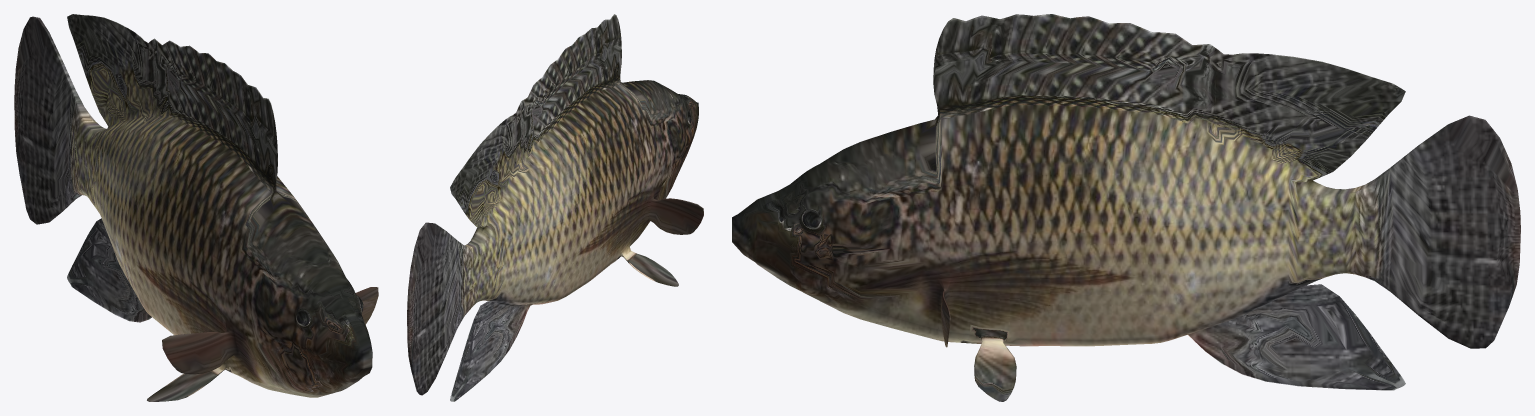
File: terapia_model.fbx
3 renders of one model, left to right at view 1: azimuth 30°, elevation 25°; view 2: azimuth 150°, elevation 25°; view 3: azimuth 270°, elevation 25°, orthographic. The views are drawn at different scales.
Parts seen in each view (by area): view 1: pCube1; view 2: pCube1; view 3: pCube1.
Boxes of the visible parts, <box> form: pCube1: <box>14,14,378,401</box>; pCube1: <box>407,14,703,401</box>; pCube1: <box>732,14,1520,401</box>.
Size of the model in its own units: 6.28 by 9.32 by 17.71.
